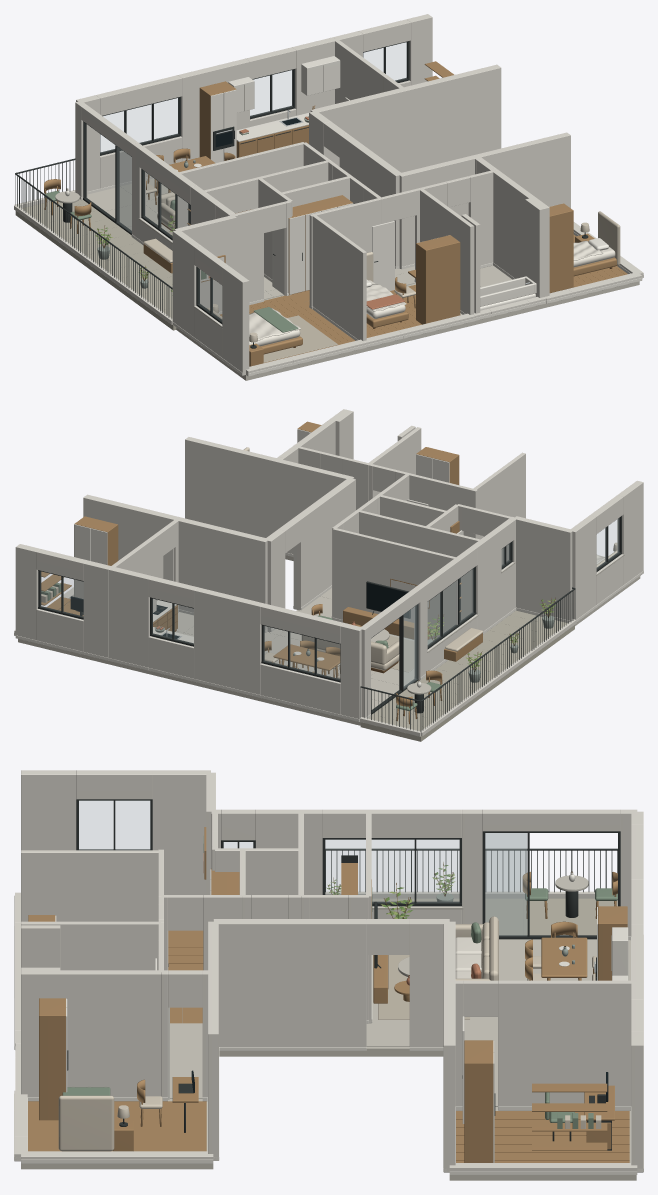
File: apartment-v1.glb
3 views of the same model, one above another, from view 1: azimuth 30°, elevation 25°; view 2: azimuth 150°, elevation 25°; view 3: azimuth 270°, elevation 25° (orthographic). The views are drawn at different scales.
Visible parts, largest first — view 1: FV_Core upper boundary end, FV_Core lower boundary end, FV_Terrace slab, FV_Parents bedroom2 partition end, FV_Bath Mamad partition end, FV_Bedroom 2 wardrobe carcass, FV_Storage north end, FV_Bedroom2 bath partition end, FV_North living facade pier 1, FV_West parents facade end, FV_Storage south end, FV_Core entry boundary end (+59 smaller); view 2: FV_Core lower boundary end, FV_Core upper boundary end, FV_Terrace slab, FV_Storage north end, FV_North living facade pier 1, FV_Parents terrace boundary end, FV_Core entry boundary end, FV_North living facade end, FV_Storage south end, FV_North living facade sill 0, FV_West apartment facade pier 2, FV_North bedroom facade pier 0 (+55 smaller); view 3: FV_Core entry boundary end, FV_Bedroom 3 partition pier 0, FV_Bath Mamad partition end, FV_Parents bedroom2 partition end, FV_West parents facade pier 0, FV_Bedroom 3 floor, FV_Bedroom2 bath partition end, FV_Mamad floor, FV_West parents facade end, FV_Core entry boundary pier 0, FV_Apartment slab, FV_Living kitchen floor (+60 smaller).
Part boxes in pixels (box(x1,y1,x2,y2)): FV_Core upper boundary end: box(310, 64, 501, 172); FV_Core lower boundary end: box(398, 132, 570, 268); FV_Terrace slab: box(15, 199, 176, 330); FV_Parents bedroom2 partition end: box(312, 214, 366, 340); FV_Bath Mamad partition end: box(493, 170, 549, 296); FV_Bedroom 2 wardrobe carcass: box(416, 235, 460, 324); FV_Storage north end: box(177, 142, 303, 228); FV_Bedroom2 bath partition end: box(419, 188, 474, 314); FV_North living facade pier 1: box(178, 58, 249, 160); FV_West parents facade end: box(222, 266, 249, 375); FV_Storage south end: box(204, 160, 328, 213); FV_Core entry boundary end: box(339, 133, 400, 268); FV_Core lower boundary end: box(185, 437, 354, 557); FV_Core upper boundary end: box(83, 494, 267, 632); FV_Terrace slab: box(360, 610, 574, 741); FV_Storage north end: box(332, 528, 457, 639); FV_North living facade pier 1: box(194, 587, 263, 697); FV_Parents terrace boundary end: box(513, 516, 573, 622); FV_Core entry boundary end: box(293, 478, 355, 610); FV_North living facade end: box(108, 566, 152, 670); FV_Storage south end: box(359, 510, 480, 620); FV_North living facade sill 0: box(260, 663, 340, 717); FV_West apartment facade pier 2: box(471, 528, 501, 631); FV_North bedroom facade pier 0: box(83, 560, 110, 660); FV_Core entry boundary end: box(213, 919, 366, 1046); FV_Bedroom 3 partition pier 0: box(498, 980, 637, 1110); FV_Bath Mamad partition end: box(21, 970, 160, 1097); FV_Parents bedroom2 partition end: box(21, 850, 160, 921); FV_West parents facade pier 0: box(152, 770, 210, 894); FV_Bedroom 3 floor: box(456, 1111, 629, 1162); FV_Bedroom2 bath partition end: box(21, 921, 160, 970); FV_Mamad floor: box(28, 1101, 206, 1151); FV_West parents facade end: box(21, 770, 76, 850); FV_Core entry boundary pier 0: box(409, 919, 449, 1046); FV_Apartment slab: box(21, 941, 636, 1180); FV_Living kitchen floor: box(372, 939, 630, 1106).
Bounding box in the file's own units: 13.38 × 3.03 × 12.79.
